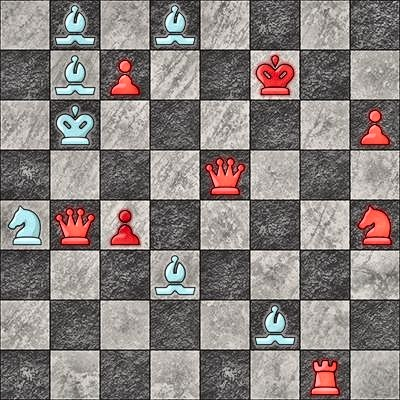black-king: (250, 50, 300, 100)
black-knight: (350, 200, 400, 250)
black-pawn: (100, 50, 150, 100), (350, 100, 400, 150), (100, 200, 150, 250)
black-queen: (200, 150, 250, 200), (50, 200, 100, 250)
black-rook: (300, 350, 350, 400)
white-bishop: (50, 0, 100, 50), (150, 0, 200, 50), (50, 50, 100, 100), (150, 250, 200, 300), (250, 300, 300, 350)
white-king: (50, 100, 100, 150)
white-knight: (0, 200, 50, 250)
